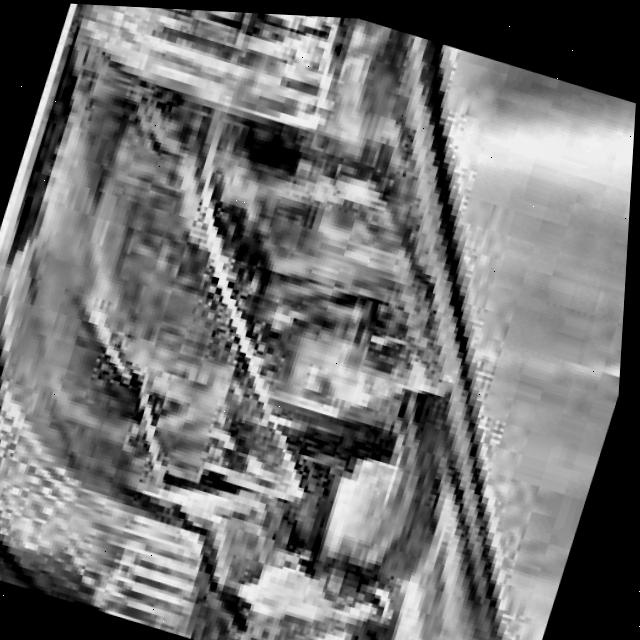tail_lamp: (150, 350, 519, 640)
